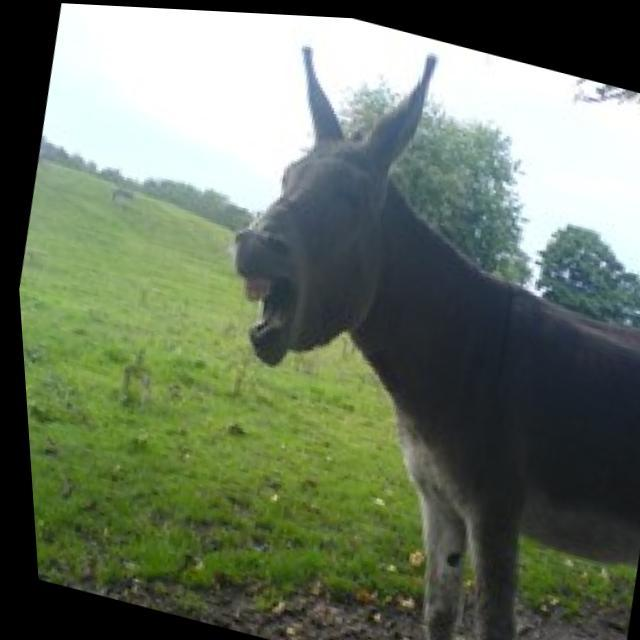Donkey: (137, 6, 640, 640)
